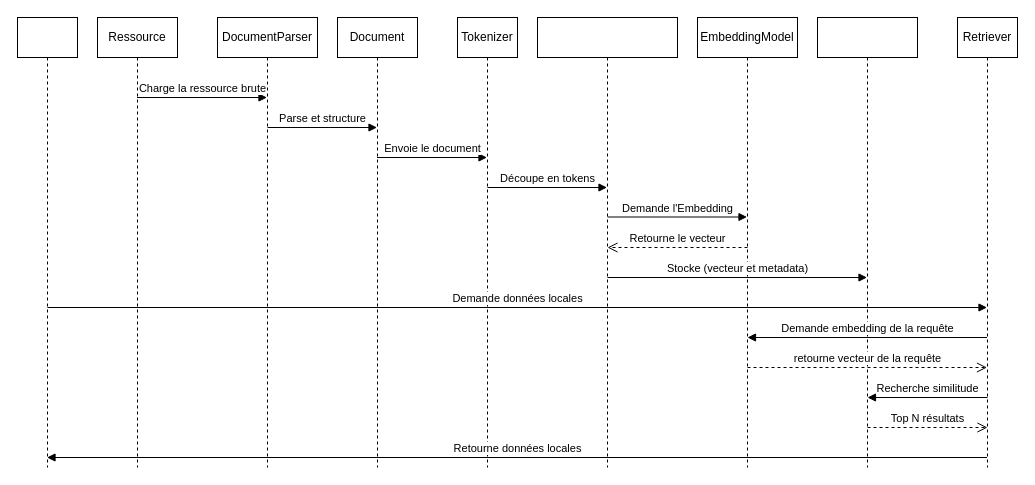
Image size: 1035x485. Some labels were removed from this diagram. Here are the shapes that lost their labels. From the top down, the box of each, then its label:
(16, 16, 78, 468): Agent AI
(536, 16, 678, 468): EmbeddingStoreIngestor
(816, 16, 918, 468): EmbeddingStore
